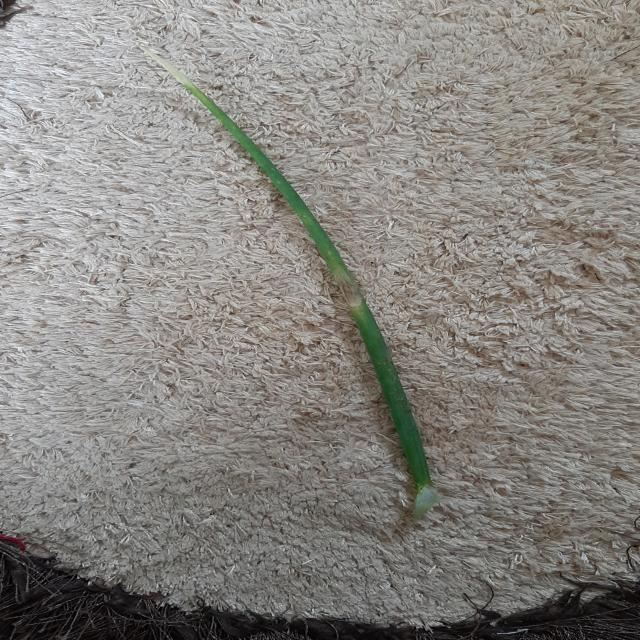onion: (146, 50, 439, 519)
